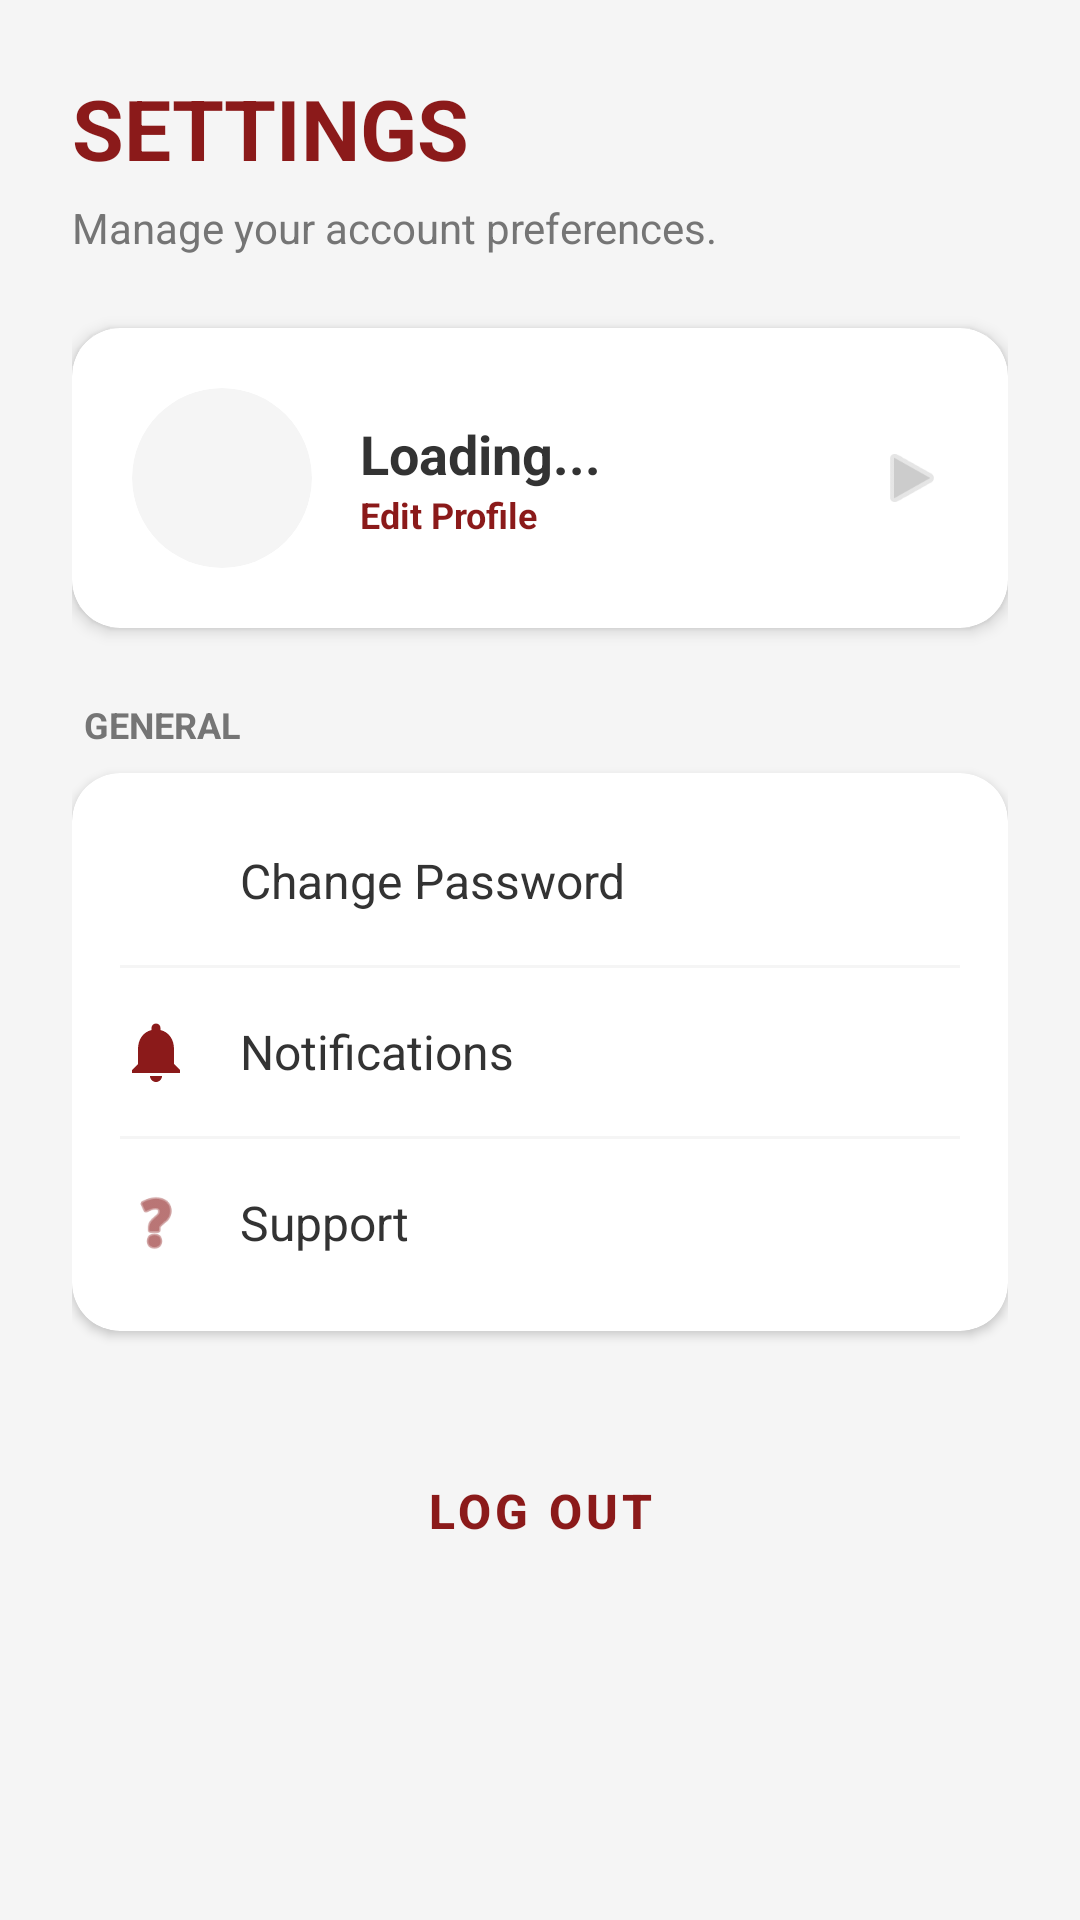

Icon bounding boxes for this 1080 x 1920 phone screenshot, format (x1, y1, x2, y2):
help: (140, 1197, 172, 1249)
play: (891, 454, 933, 502)
